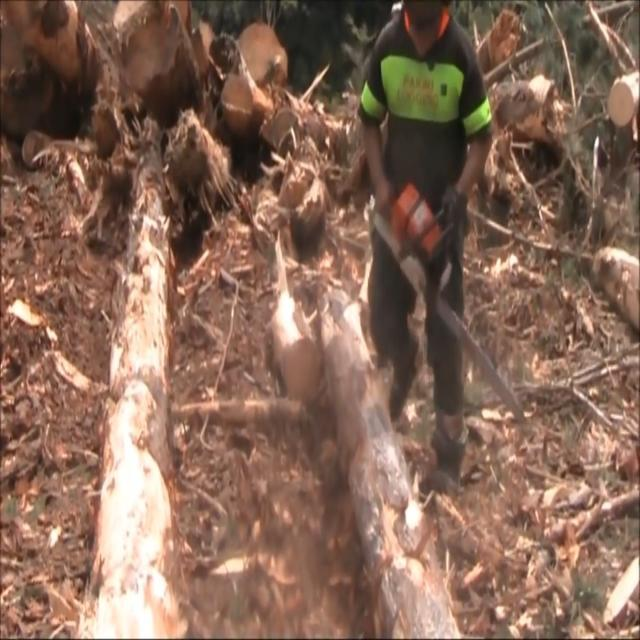Chainsaw: (354, 172, 544, 456)
